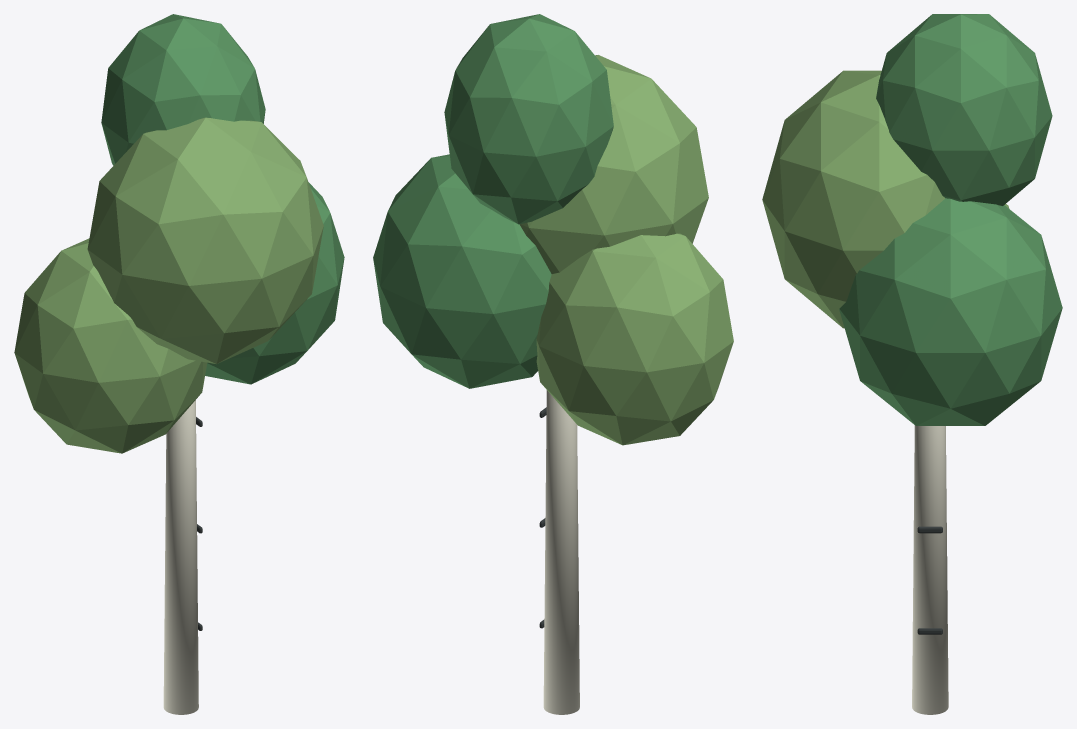
Rendered from birch.glb.
3 renders of one model, left to right at view 1: azimuth 30°, elevation 25°; view 2: azimuth 150°, elevation 25°; view 3: azimuth 270°, elevation 25°, orthographic. The views are drawn at different scales.
Parts seen in each view (by area): view 1: birch_leaflight, birch_leaf, birch_birchbark; view 2: birch_leaf, birch_leaflight, birch_birchbark; view 3: birch_leaf, birch_leaflight, birch_birchbark.
Boxes of the visible parts, <box> form: birch_leaflight: <box>14,117,323,453</box>; birch_leaf: <box>101,14,344,384</box>; birch_birchbark: <box>163,400,198,714</box>; birch_leaf: <box>373,14,613,388</box>; birch_leaflight: <box>519,55,733,445</box>; birch_birchbark: <box>543,390,579,714</box>; birch_leaf: <box>839,14,1062,425</box>; birch_leaflight: <box>762,70,1009,328</box>; birch_birchbark: <box>912,425,948,714</box>.
Bounding box in the file's own units: 3.64 × 7.6 × 2.95.
